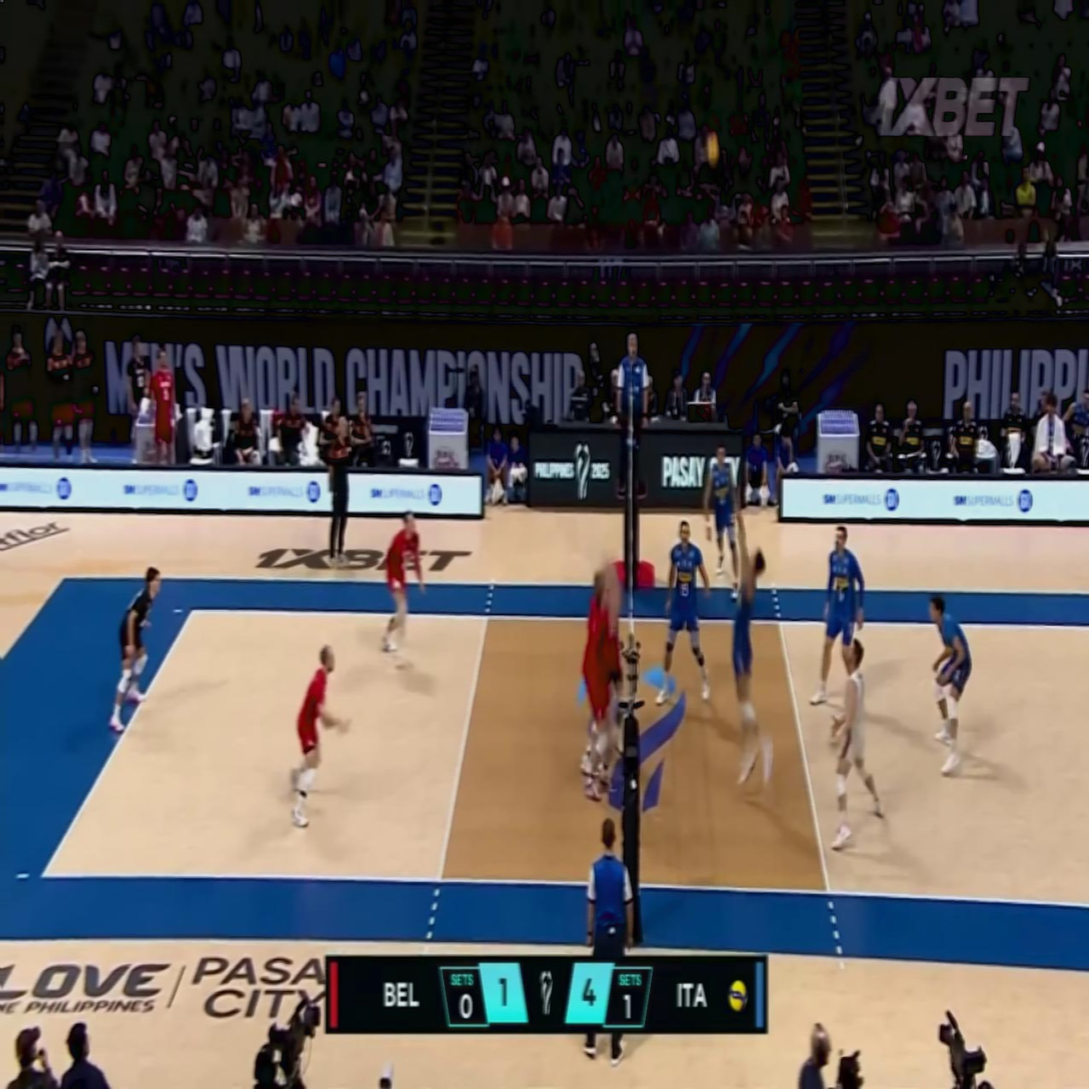ball: (705, 133, 718, 163)
